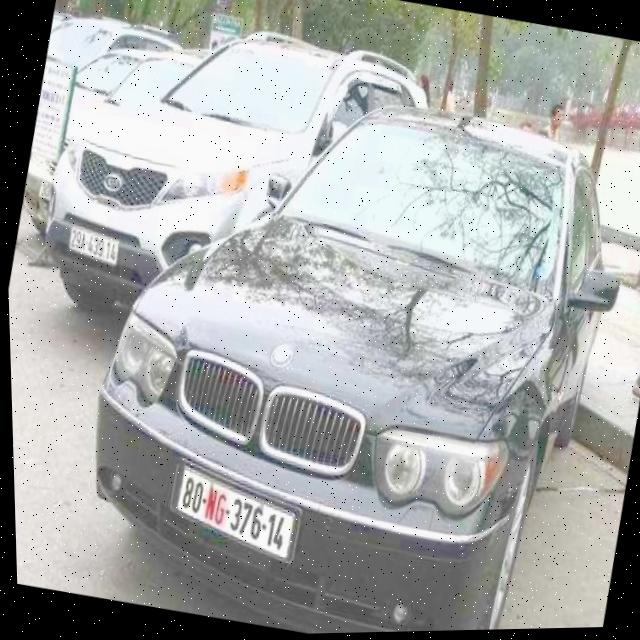car: (55, 46, 640, 639), (30, 0, 435, 358)
plate: (157, 453, 312, 571), (58, 216, 129, 272)
